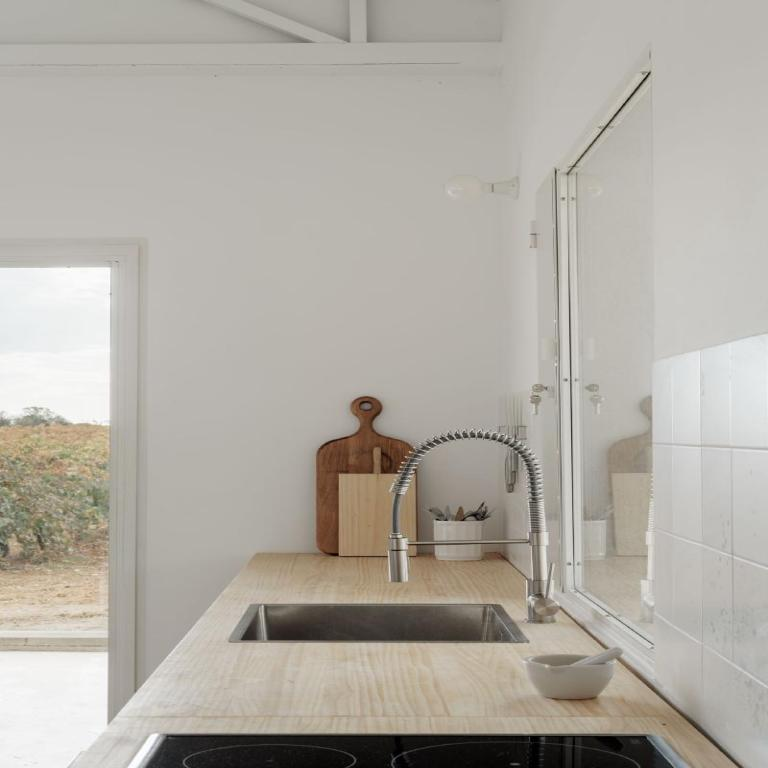white-walls: (13, 75, 558, 608)
